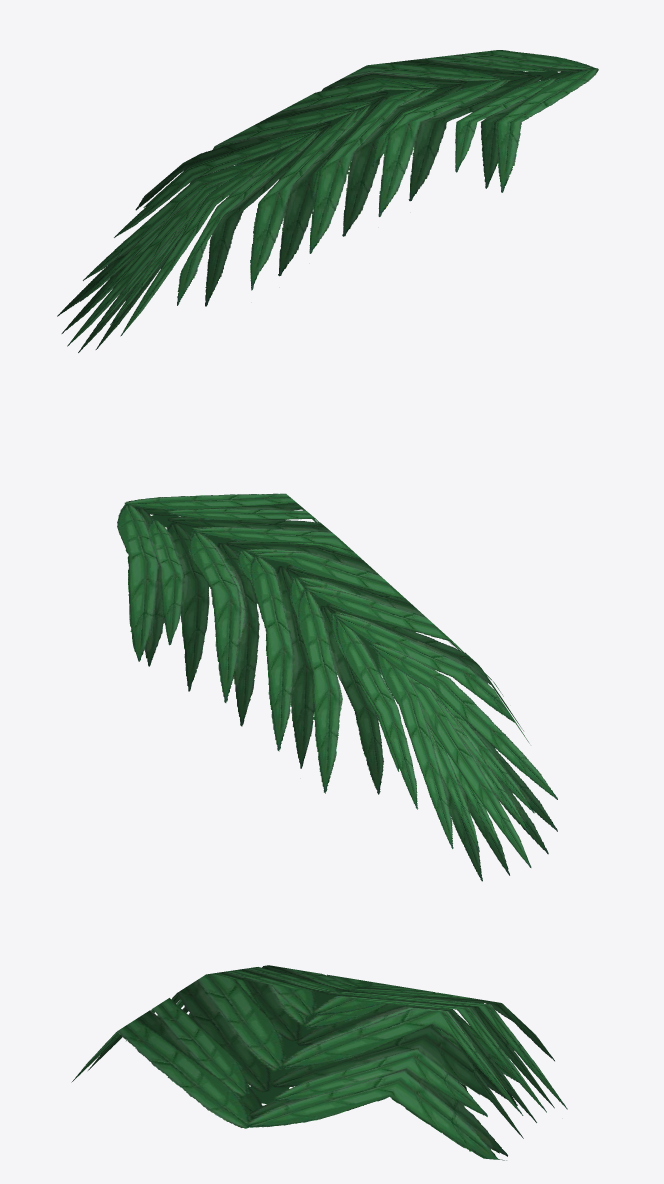
The model's file is Den_leaves.obj.
3 renders of one model, top to bottom at view 1: azimuth 30°, elevation 25°; view 2: azimuth 150°, elevation 25°; view 3: azimuth 270°, elevation 25°, orthographic. The views are drawn at different scales.
Visible parts, largest first — view 1: polySurface1248 polySurface1234; view 2: polySurface1248 polySurface1234; view 3: polySurface1248 polySurface1234.
Part boxes in pixels (x1,y1,x2,y2): polySurface1248 polySurface1234: (57,50,598,352); polySurface1248 polySurface1234: (117,493,557,881); polySurface1248 polySurface1234: (71,965,567,1160).
Bounding box in the file's own units: 3.95 × 1.62 × 2.63.
1 material, 1 textured.
